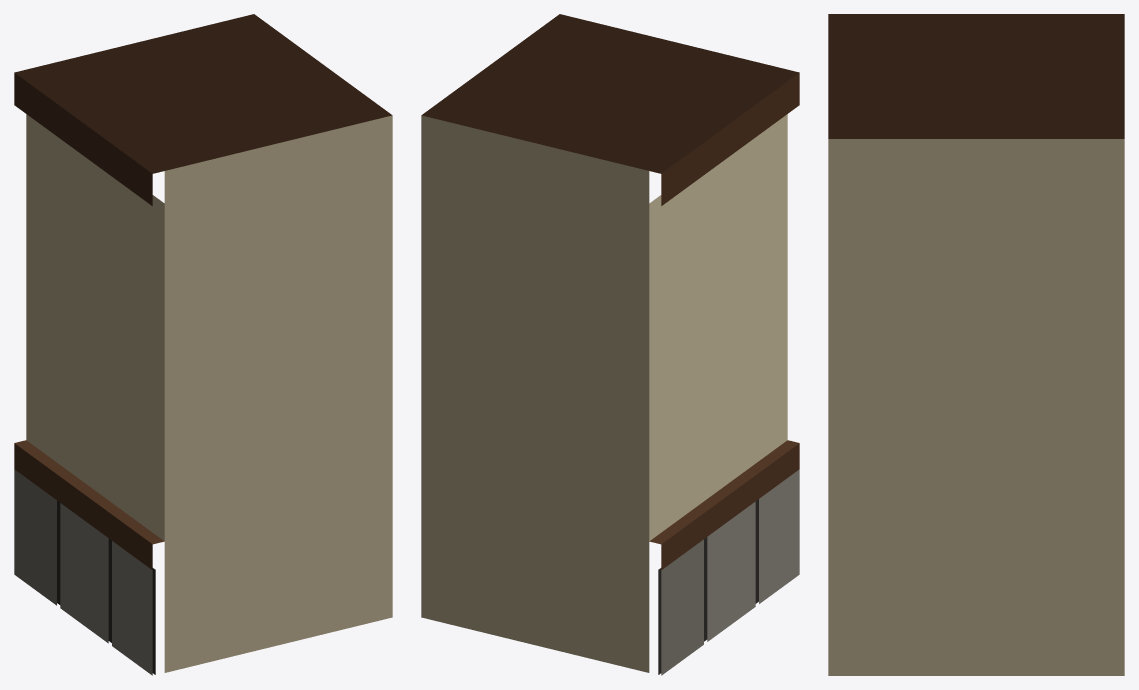
File: tile_house_wall_11.glb
3 views of the same model, side by side, from view 1: azimuth 30°, elevation 25°; view 2: azimuth 150°, elevation 25°; view 3: azimuth 270°, elevation 25° (orthographic). The views are drawn at different scales.
Parts seen in each view (by area): view 1: tile_house_wall_11; view 2: tile_house_wall_11; view 3: tile_house_wall_11.
Part boxes in pixels (bbox=[...]): tile_house_wall_11: bbox=[14, 14, 392, 675]; tile_house_wall_11: bbox=[421, 14, 799, 675]; tile_house_wall_11: bbox=[828, 14, 1124, 675].
Bounding box in the file's own units: 1 × 2 × 1.
